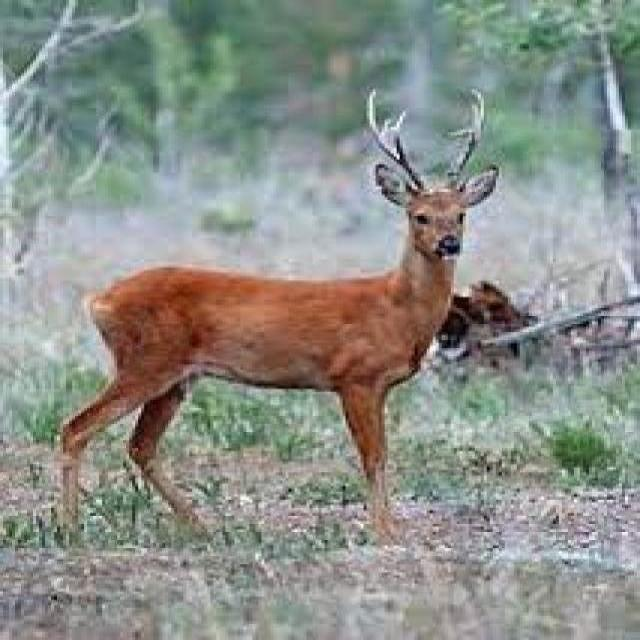deer: (51, 71, 512, 548)
